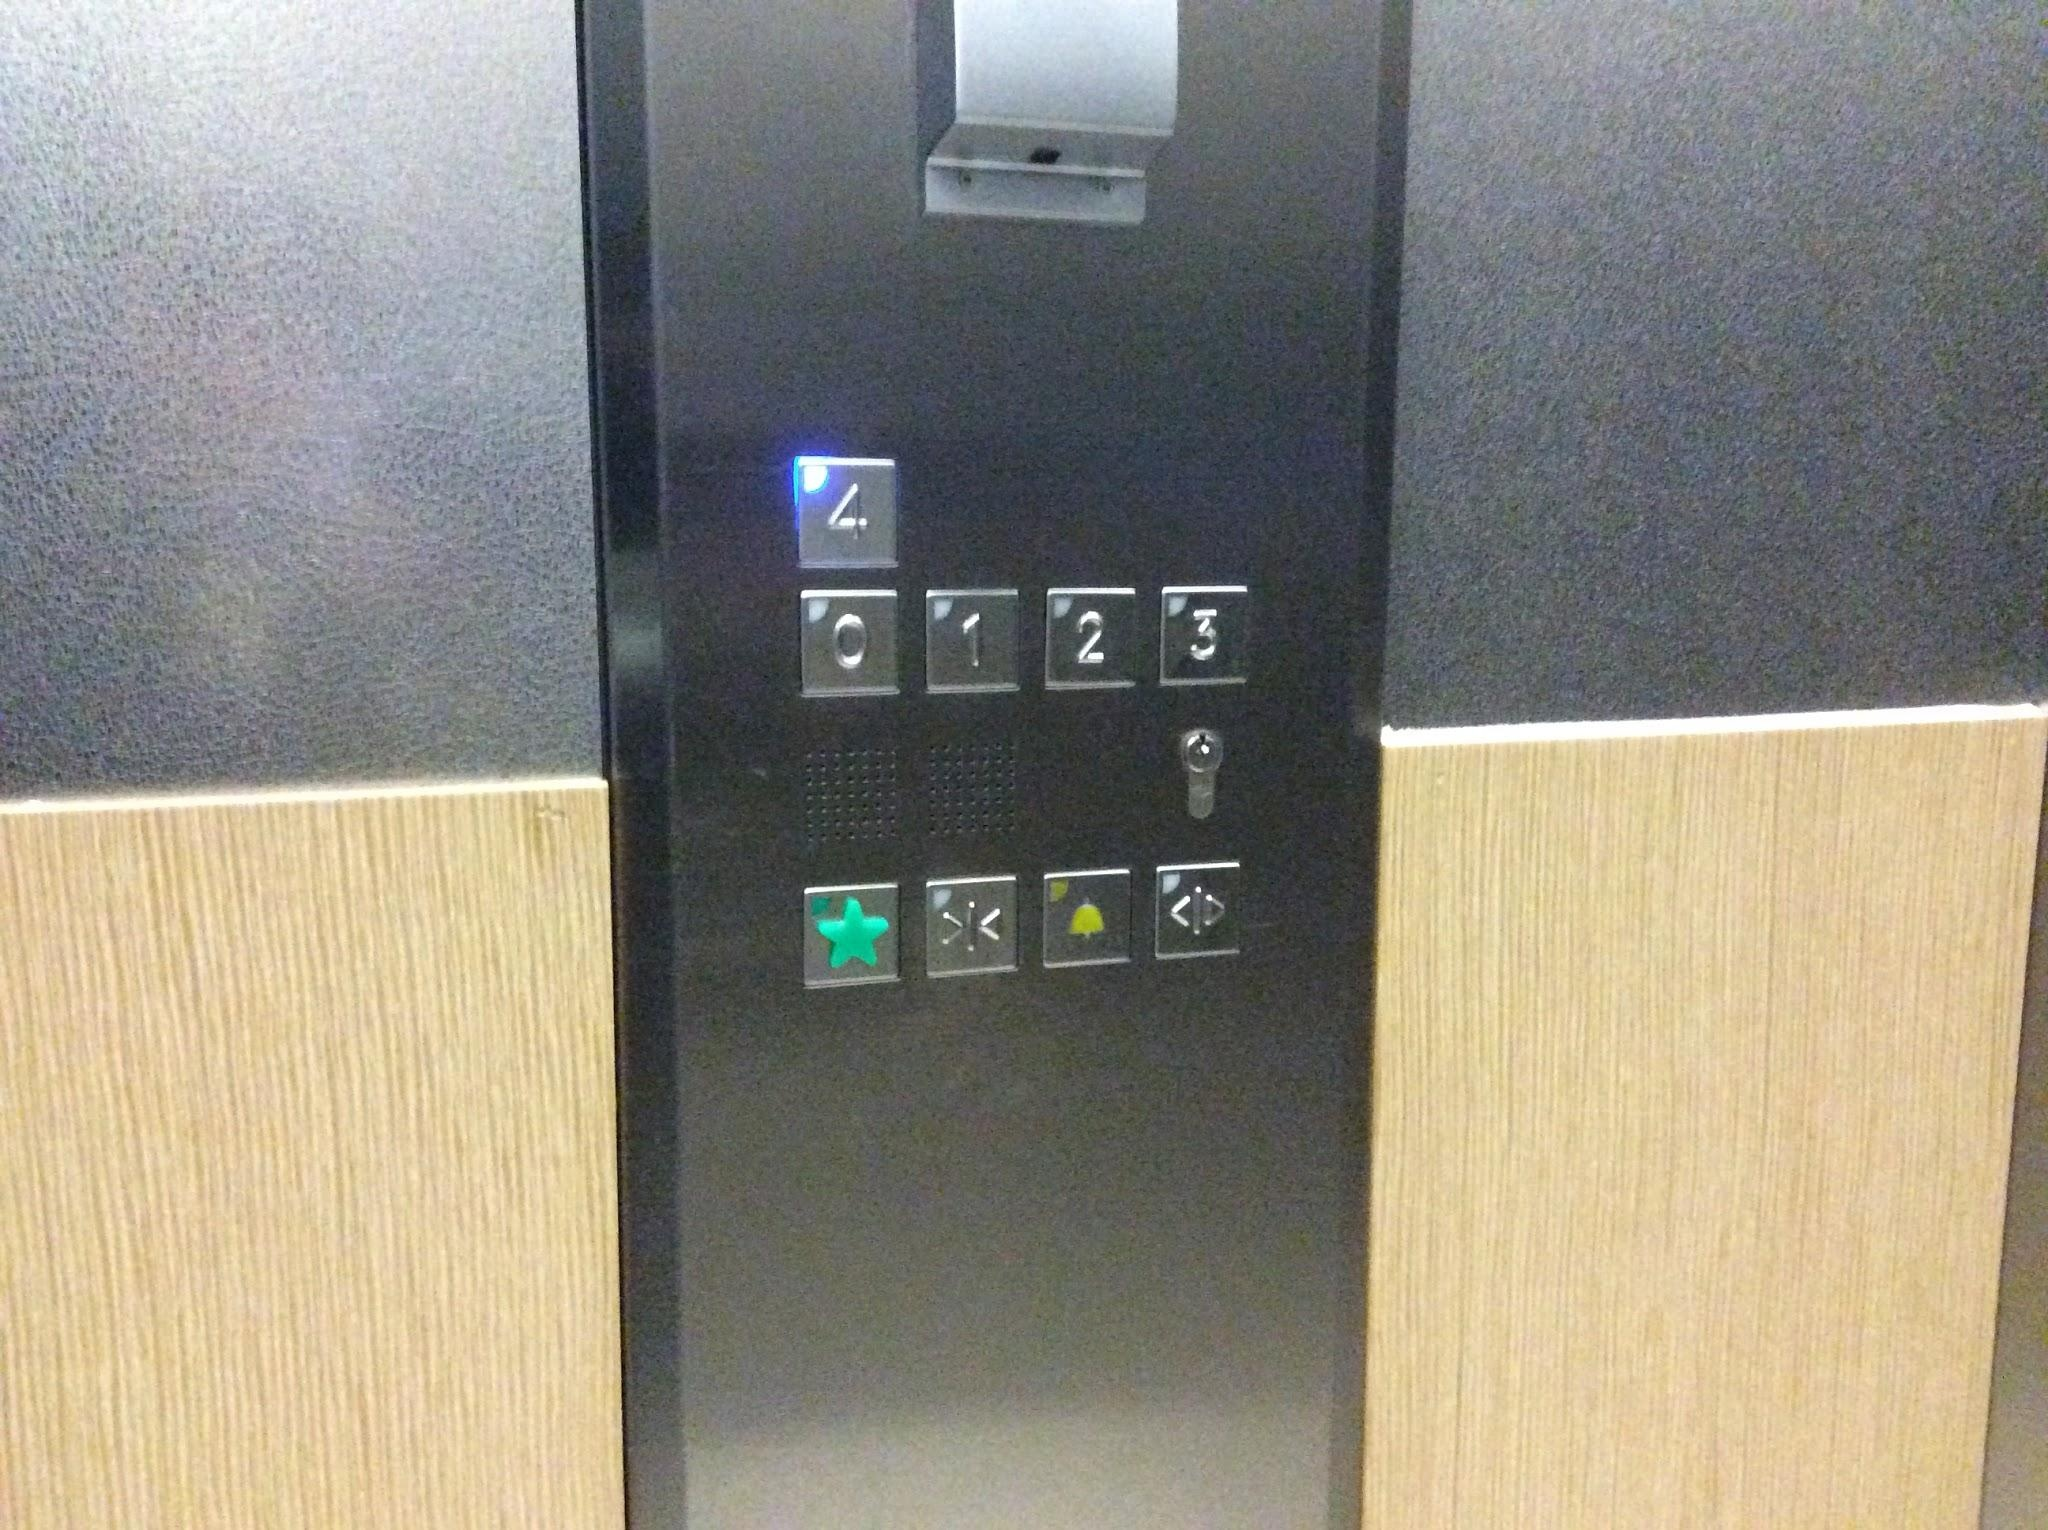0: (796, 582, 905, 702)
1: (918, 582, 1024, 697)
2: (1035, 575, 1145, 694)
3: (1153, 579, 1254, 693)
4: (788, 448, 903, 574)
alarm: (1038, 863, 1140, 974)
close: (920, 871, 1024, 984)
keyhole: (1177, 725, 1230, 778)
open: (1149, 857, 1247, 967)
s: (797, 876, 908, 996)
